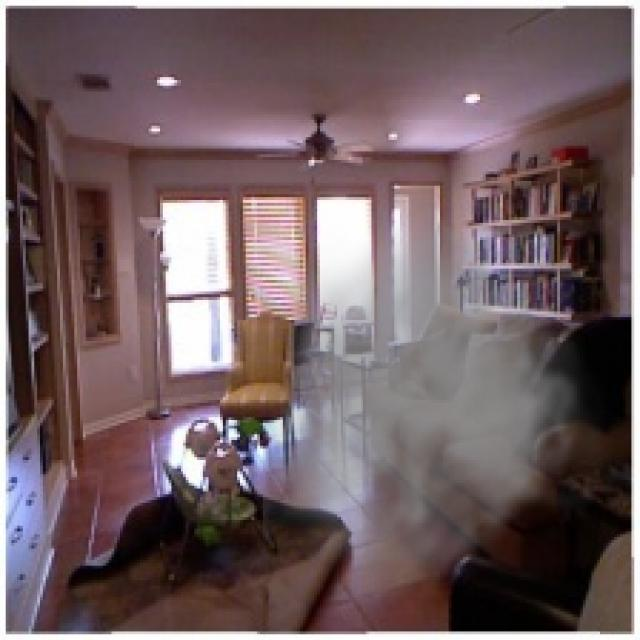Smoke: (263, 200, 620, 614)
